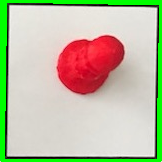Red Pawn: (54, 33, 127, 99)
